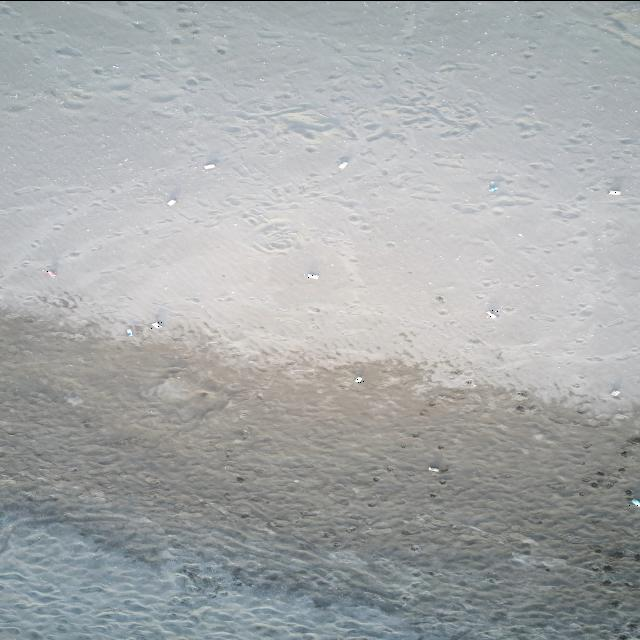Garbage: (427, 464, 447, 472), (486, 308, 497, 318), (304, 272, 319, 279), (43, 268, 55, 276), (488, 180, 496, 192), (609, 388, 620, 396), (203, 161, 215, 168), (630, 497, 639, 506), (427, 466, 440, 472), (167, 198, 176, 206), (150, 320, 160, 327), (355, 375, 363, 383), (339, 160, 347, 168), (608, 190, 620, 195), (125, 327, 132, 335)
